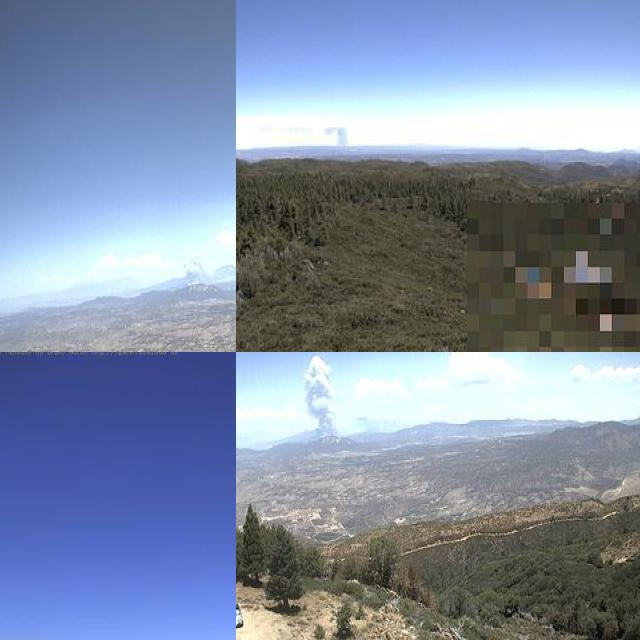smoke: (299, 352, 344, 445), (181, 264, 220, 295), (317, 122, 350, 155)
